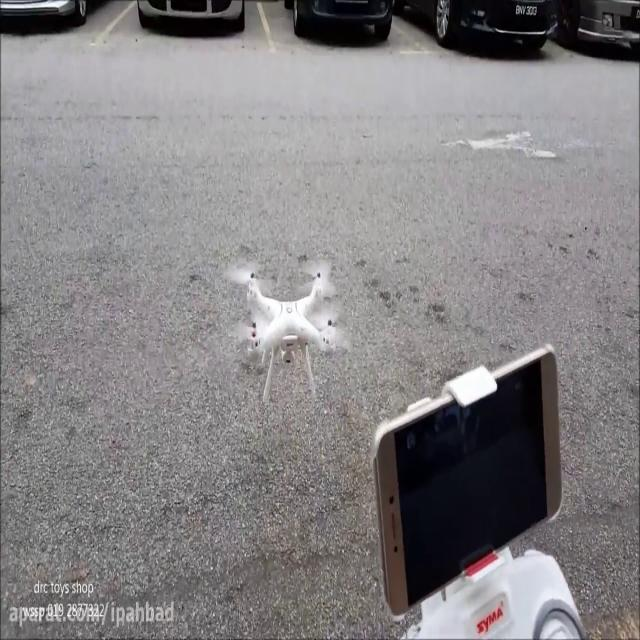drone: (225, 254, 347, 406)
